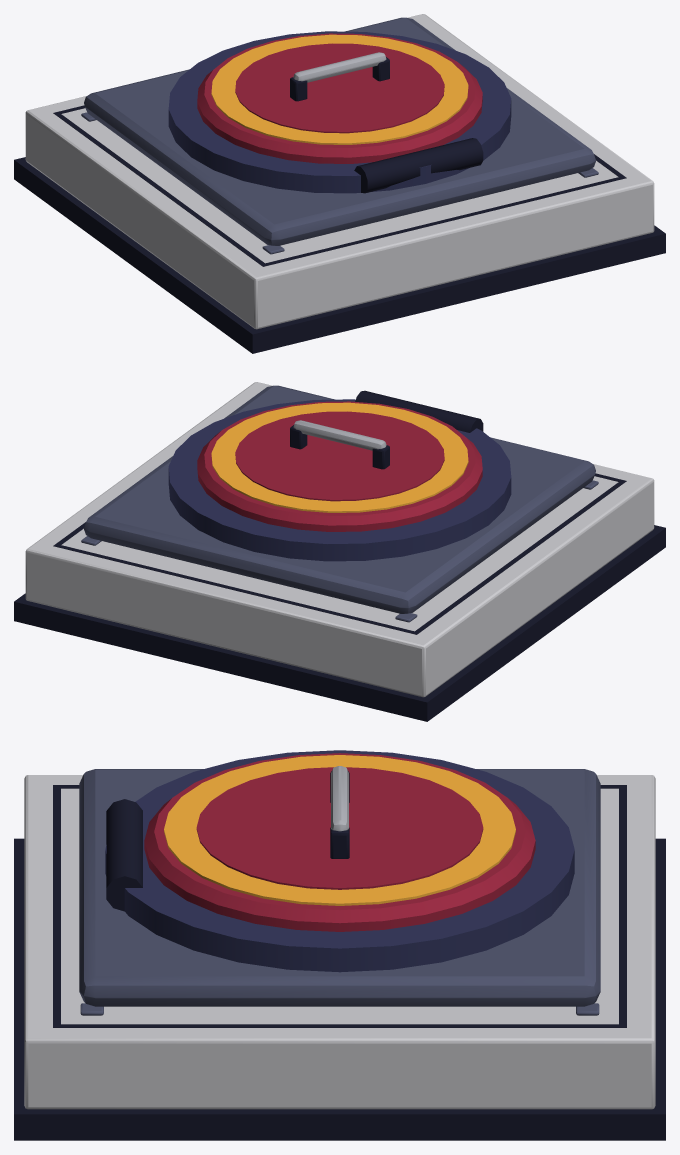
File: roof.square.hatch.glb
3 renders of one model, top to bottom at view 1: azimuth 30°, elevation 25°; view 2: azimuth 150°, elevation 25°; view 3: azimuth 270°, elevation 25°, orthographic. The views are drawn at different scales.
Visible parts, largest first — view 1: GEO-roof.square.hatch; view 2: GEO-roof.square.hatch; view 3: GEO-roof.square.hatch.
Boxes of the visible parts, <box> form: GEO-roof.square.hatch: <box>14,14,665,353</box>; GEO-roof.square.hatch: <box>14,382,665,721</box>; GEO-roof.square.hatch: <box>14,750,665,1140</box>.
Bounding box in the file's own units: 1 × 0.355 × 1.
